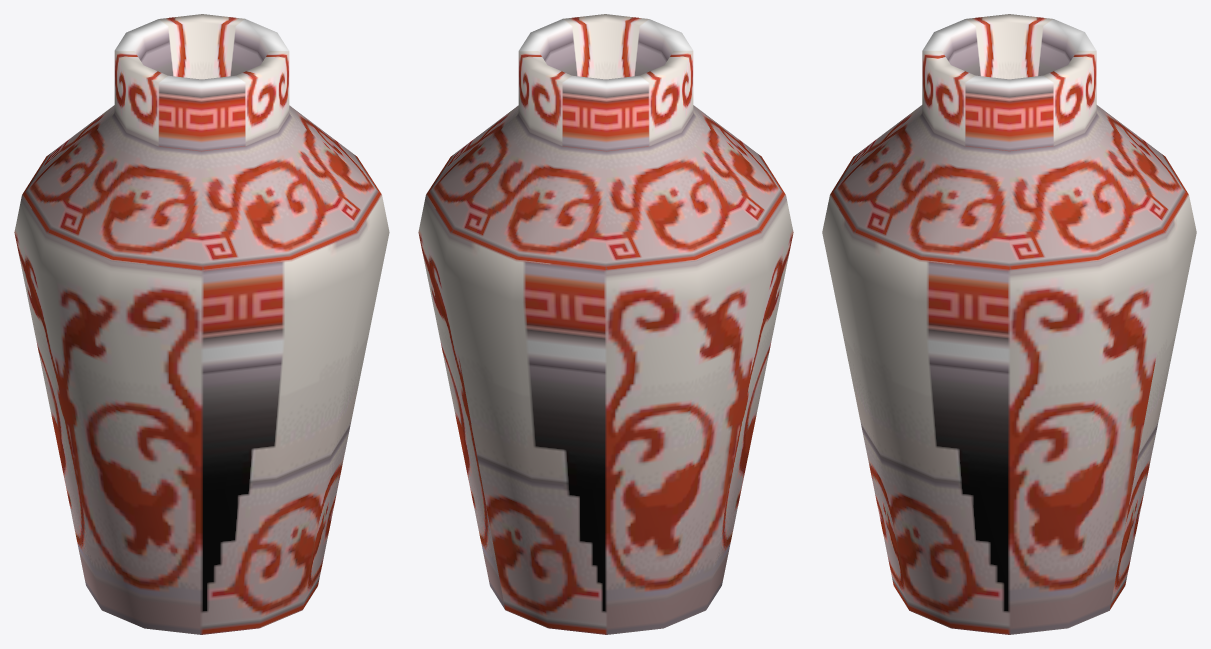
The model's file is int_jar_jar_red.dae.
3 renders of one model, left to right at view 1: azimuth 30°, elevation 25°; view 2: azimuth 150°, elevation 25°; view 3: azimuth 270°, elevation 25°, orthographic.
Visible parts, largest first — view 1: int_jar_jar_red; view 2: int_jar_jar_red; view 3: int_jar_jar_red.
Part boxes in pixels (x1=…): int_jar_jar_red: x1=14, y1=14, x2=389, y2=634; int_jar_jar_red: x1=418, y1=14, x2=793, y2=634; int_jar_jar_red: x1=822, y1=14, x2=1196, y2=634.
Size of the model in its own units: 28.8 by 45.4 by 28.8.
1 material, 1 textured.
